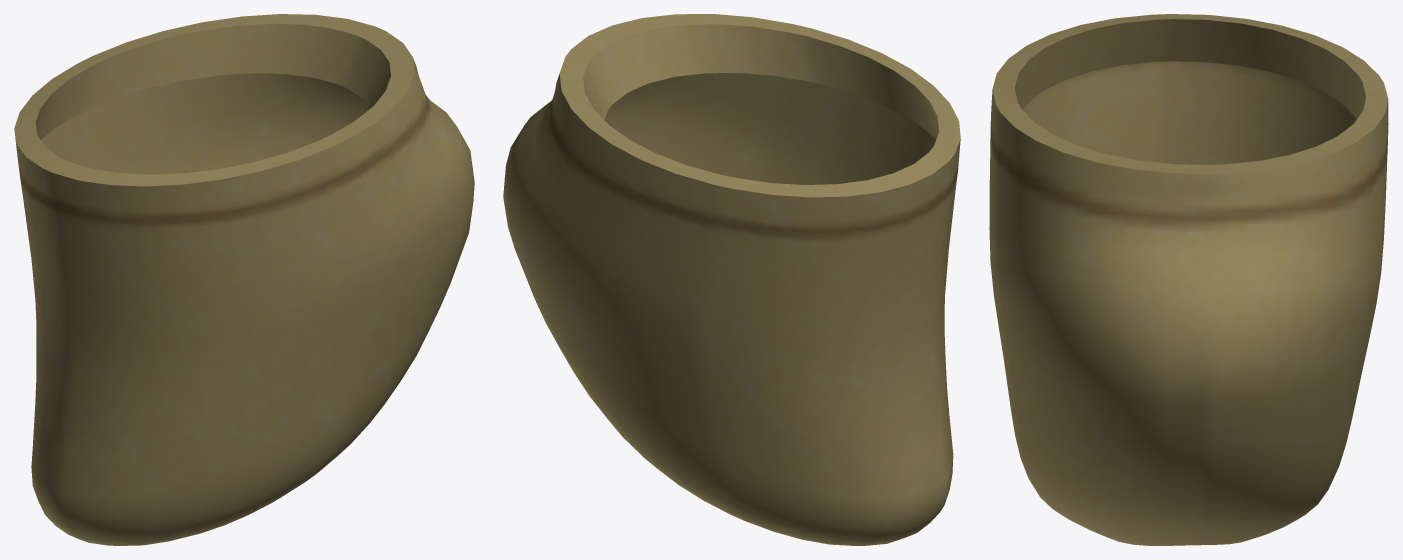
Rendered from wm_elven_sword_a_pommel.fbx.
The picture shows the model from 3 angles, left to right: view 1: azimuth 30°, elevation 25°; view 2: azimuth 150°, elevation 25°; view 3: azimuth 270°, elevation 25°; orthographic projection. The views are drawn at different scales.
Visible parts, largest first — view 1: wm_elven_sword_a_pommel; view 2: wm_elven_sword_a_pommel; view 3: wm_elven_sword_a_pommel.
Part boxes in pixels (x1=…): wm_elven_sword_a_pommel: x1=14, y1=14, x2=474, y2=545; wm_elven_sword_a_pommel: x1=503, y1=14, x2=960, y2=545; wm_elven_sword_a_pommel: x1=989, y1=14, x2=1388, y2=545.
Bounding box in the file's own units: 0.0495 × 0.0352 × 0.0474.
Materials: 1 (1 with a texture image).
